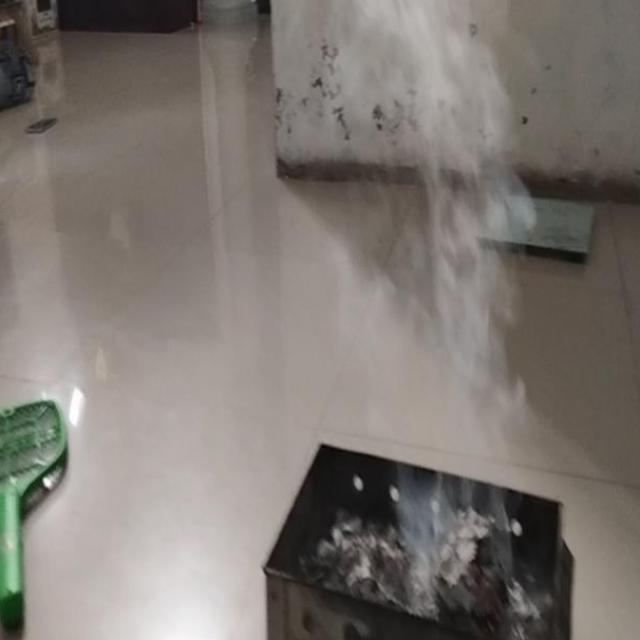fire: (384, 17, 530, 464)
